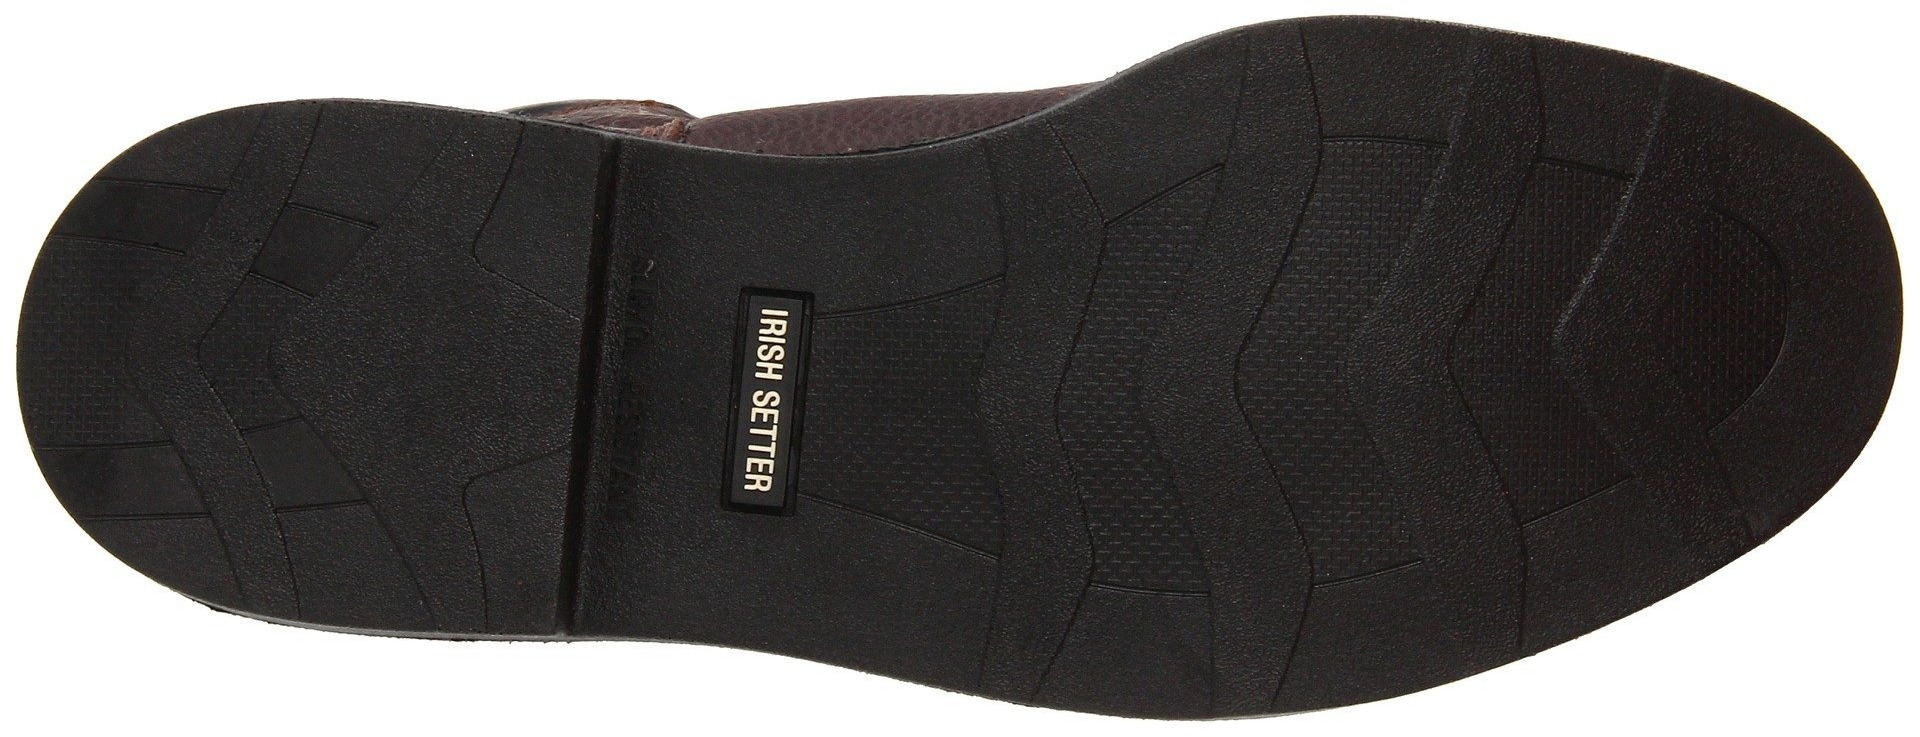chevron: (1316, 113, 1773, 550), (912, 175, 1331, 566), (70, 213, 345, 473)
other: (343, 277, 531, 465), (698, 514, 835, 646), (733, 165, 863, 288)
quad: (661, 278, 913, 531)
text: (724, 295, 820, 387), (725, 436, 797, 501), (733, 384, 802, 443)
